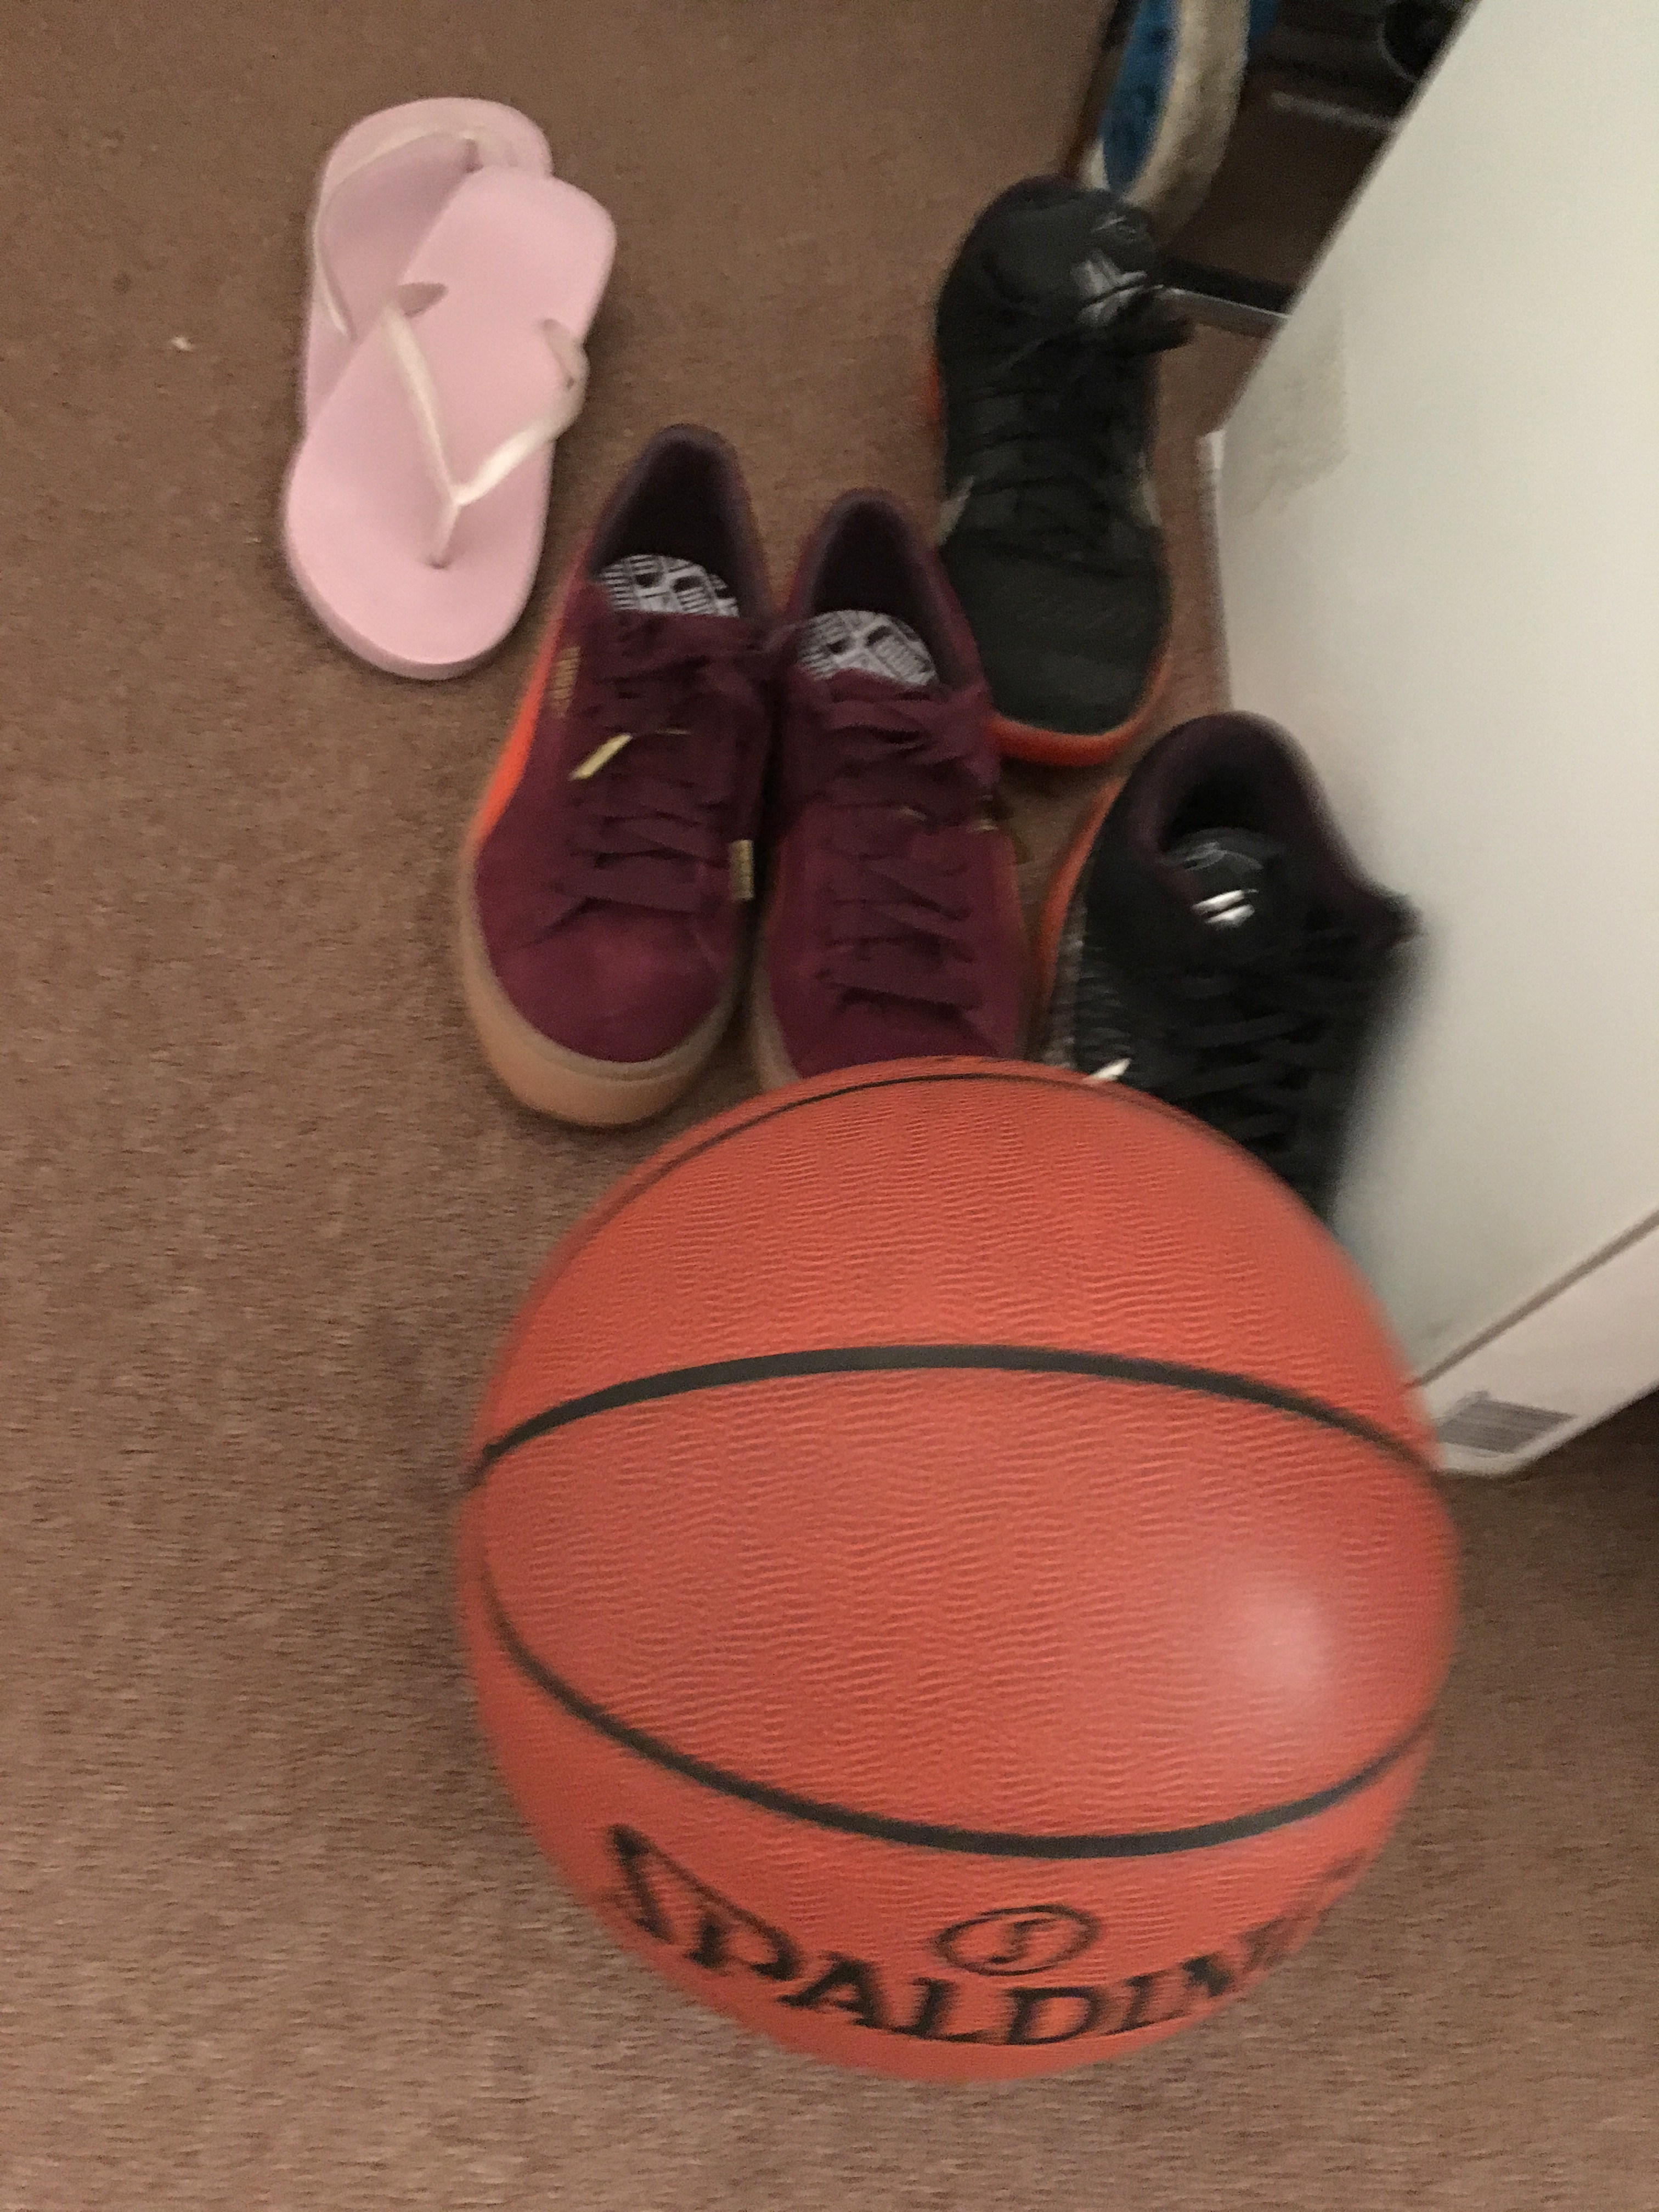Basketball: (434, 1038, 1467, 2088)
